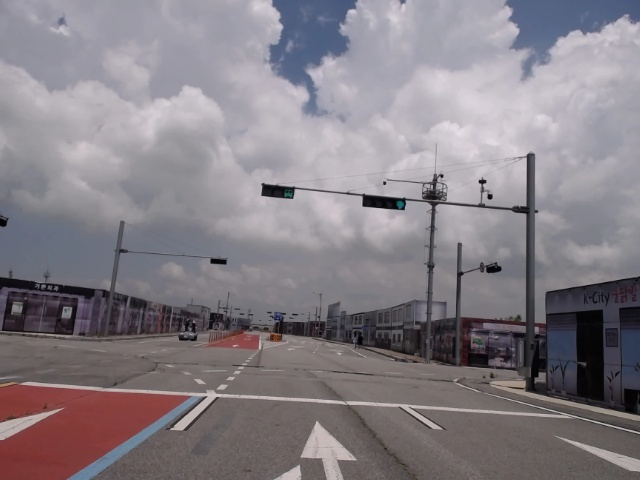straight_green_4: (361, 195, 409, 211)
